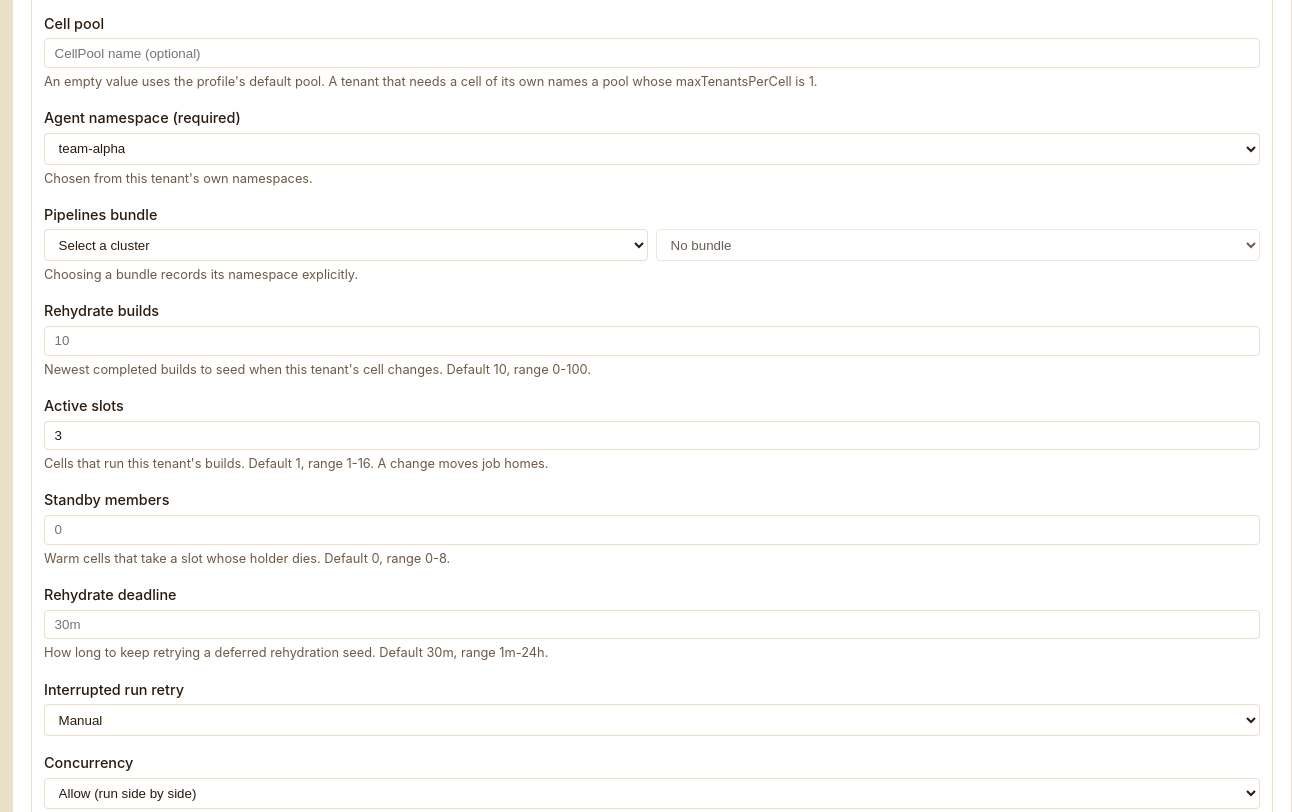
Test: TenantForm › rejects an out-of-range slot count
(page scrolled)
Step 1. Replace the text in the 2nd number field with "0" → (652, 435), box [44,420,1260,450]
(page scrolled)
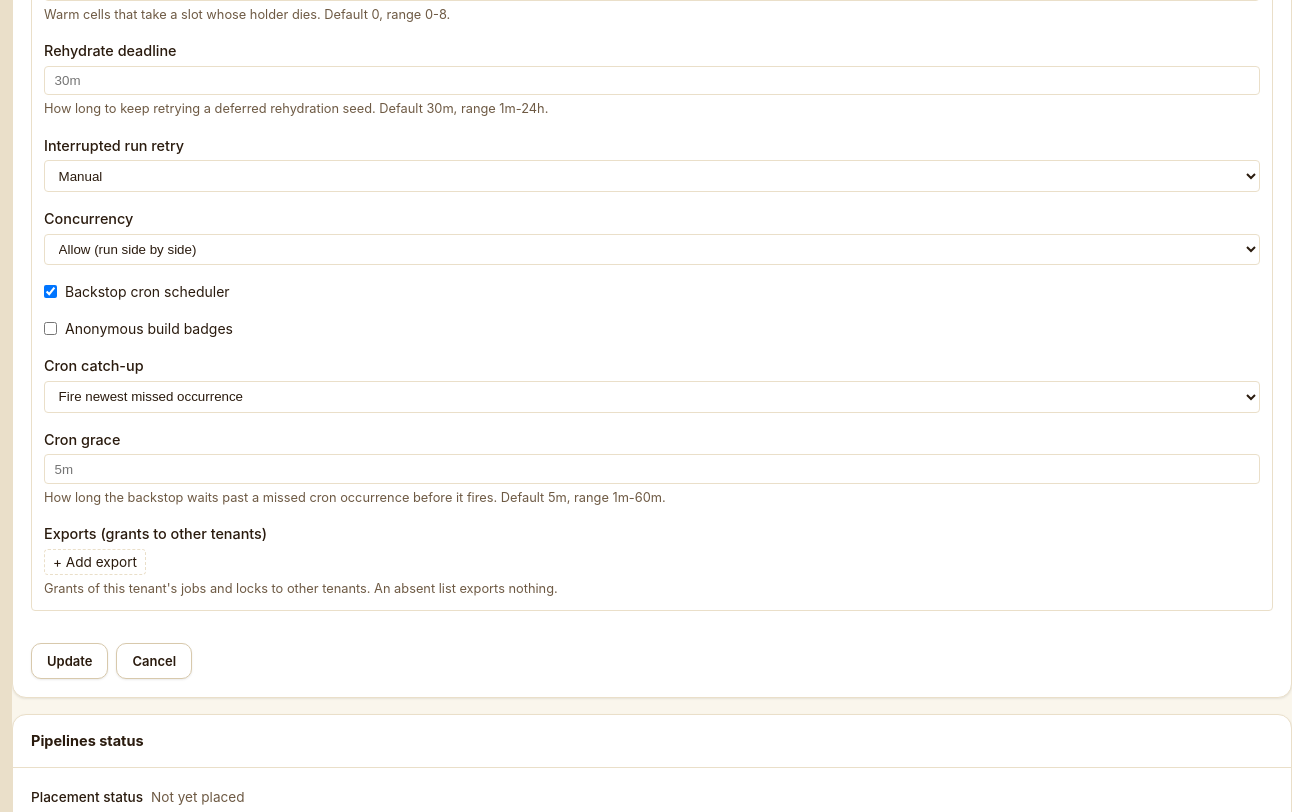
Step 2. Click the button "Update" → (70, 661), box [31,643,108,679]
(page scrolled)
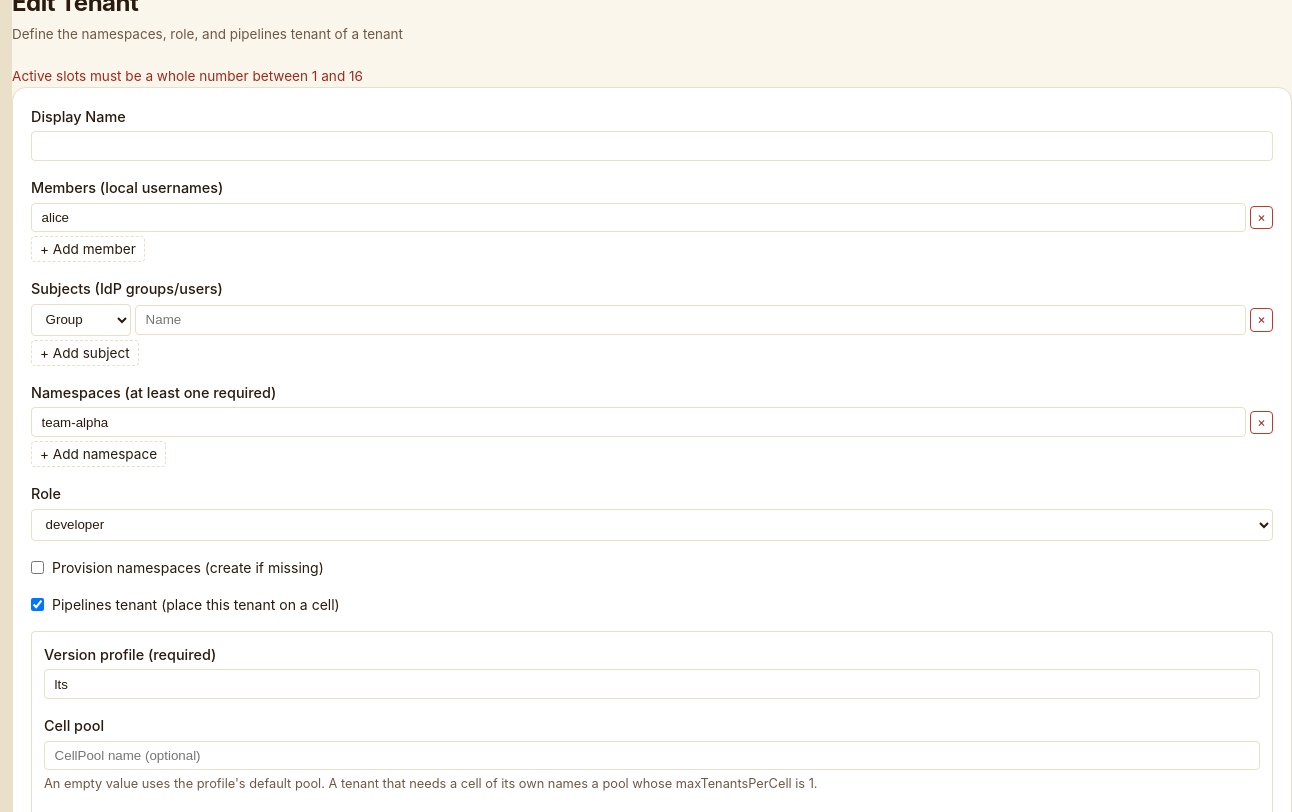
Now the text "Active slots must be a whole number between 1 and 16" is shown, box [12,68,363,84]
